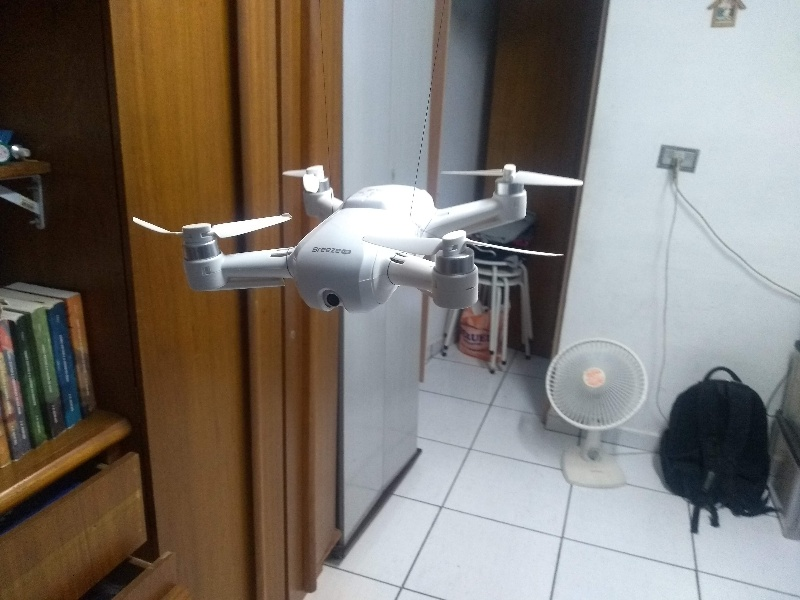drone: (134, 161, 583, 321)
